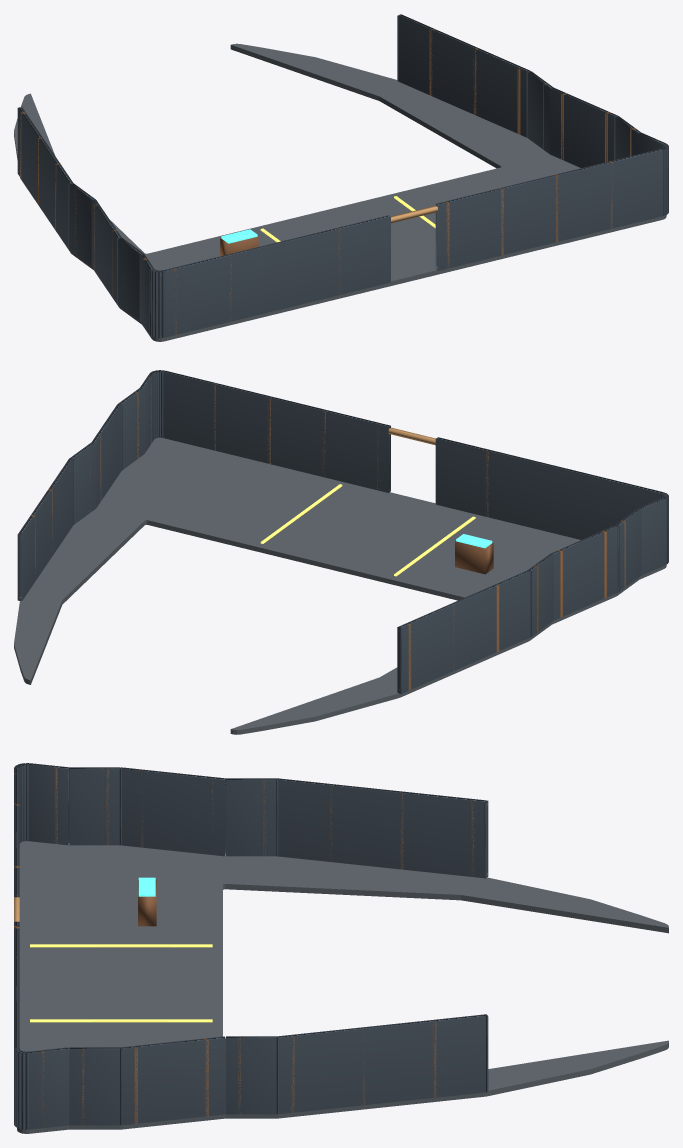
File: Firefly_Hangar.glb
The picture shows the model from 3 angles, top to bottom: view 1: azimuth 30°, elevation 25°; view 2: azimuth 150°, elevation 25°; view 3: azimuth 270°, elevation 25°; orthographic projection. The views are drawn at different scales.
Parts seen in each view (by area): view 1: Wall (×11), Firefly_Hangar_floor; view 2: Wall (×12), Firefly_Hangar_floor, Console_body; view 3: Wall (×12), Firefly_Hangar_floor, Dock_guide (×2), Console_body.
Part boxes in pixels (x1,y1,x2,y2): Wall (×11): (18, 14, 663, 337); Firefly_Hangar_floor: (14, 43, 666, 341); Wall (×12): (18, 371, 665, 693); Firefly_Hangar_floor: (14, 437, 666, 734); Console_body: (455, 541, 493, 574); Wall (×12): (14, 763, 485, 1129); Firefly_Hangar_floor: (17, 841, 668, 1133); Dock_guide (×2): (30, 944, 212, 1022); Console_body: (138, 880, 156, 926).
Size of the model in its own units: 26.4 by 3.43 by 25.11.
